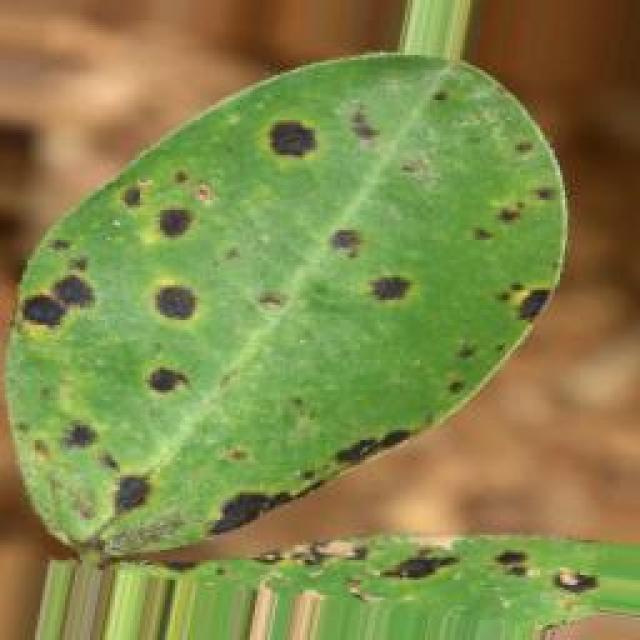Yellowish: (0, 67, 576, 566)
